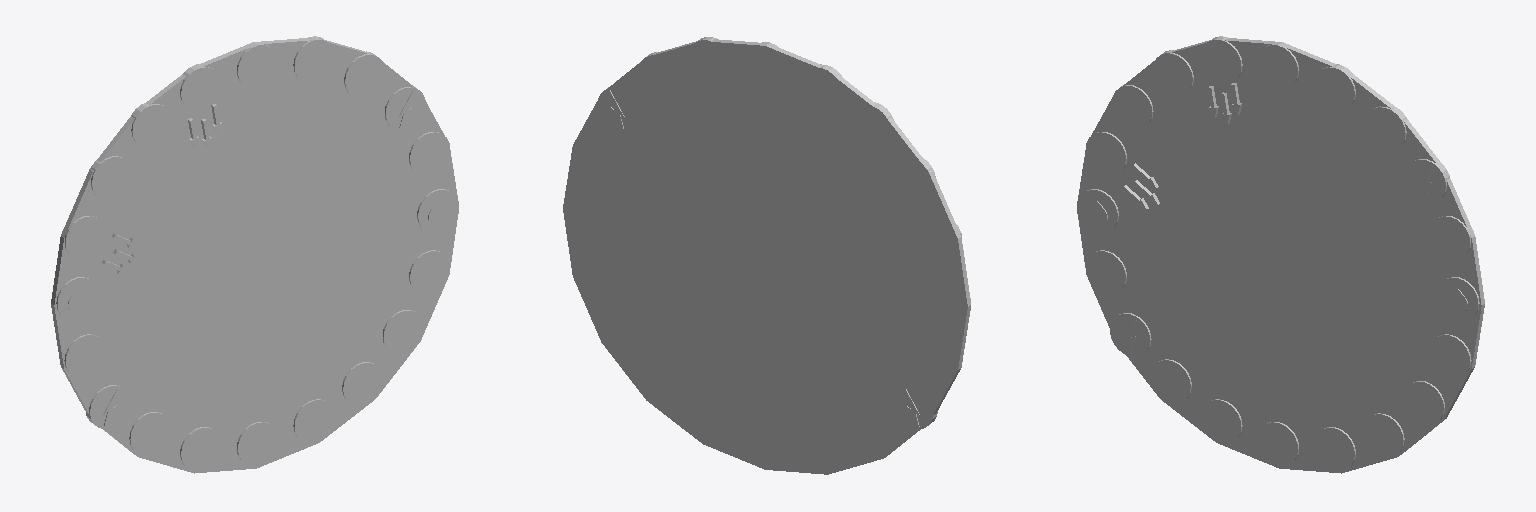
The model's file is Kaisle.obj.
The picture shows the model from 3 angles: view 1: azimuth 30°, elevation 25°; view 2: azimuth 150°, elevation 25°; view 3: azimuth 330°, elevation 25°; orthographic projection.
Parts seen in each view (by area): view 1: obj_0; view 2: obj_0; view 3: obj_0.
Boxes of the visible parts, x1,y1,x2,y2 form: obj_0: [51, 36, 458, 473]; obj_0: [563, 37, 970, 474]; obj_0: [1077, 36, 1484, 473].
Size of the model in its own units: 200 by 200 by 5.5.